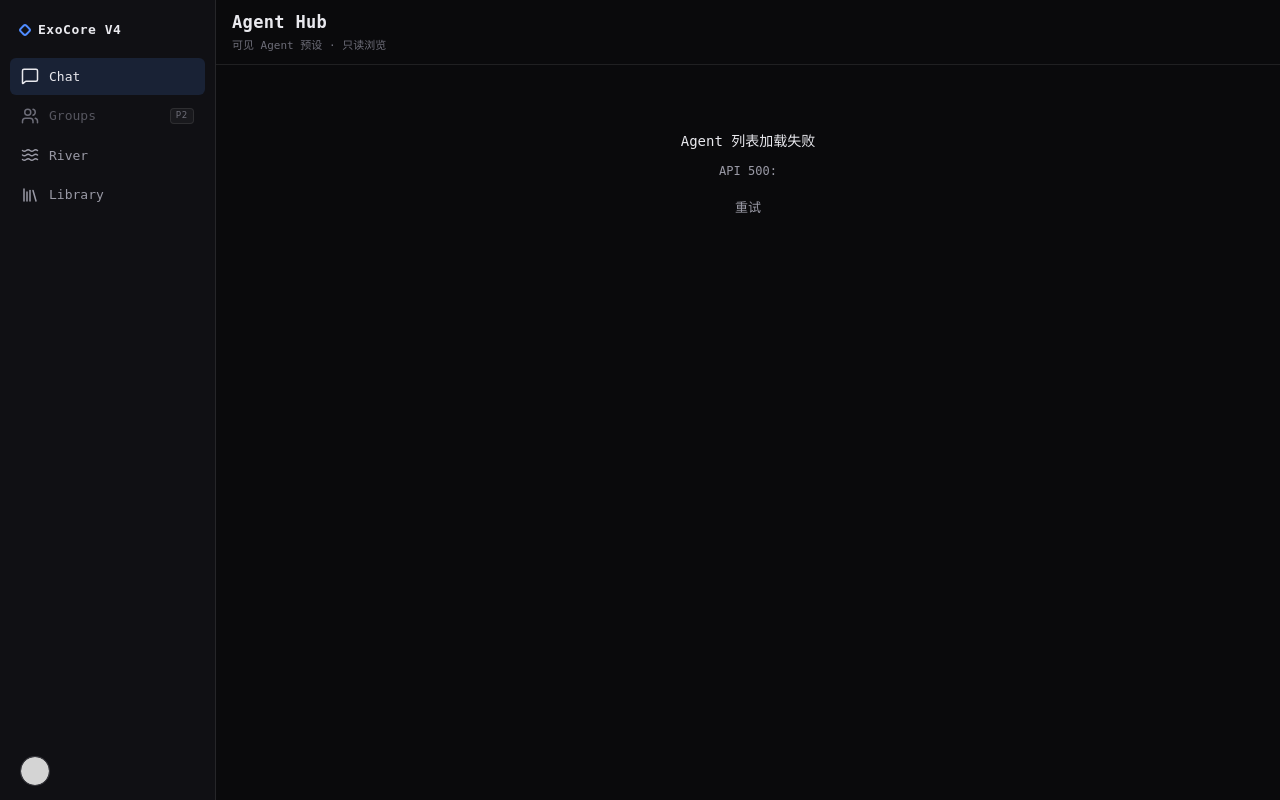
Scenario: Agent Hub (P2A Stage A) › shows an explicit error state with a working retry
Expected: the text "Agent 列表加载失败" is shown, [681, 131, 815, 152]
Expected: the text "Ecki" is not shown
Click the button "重试".
click(748, 208)  # box [720, 190, 776, 226]
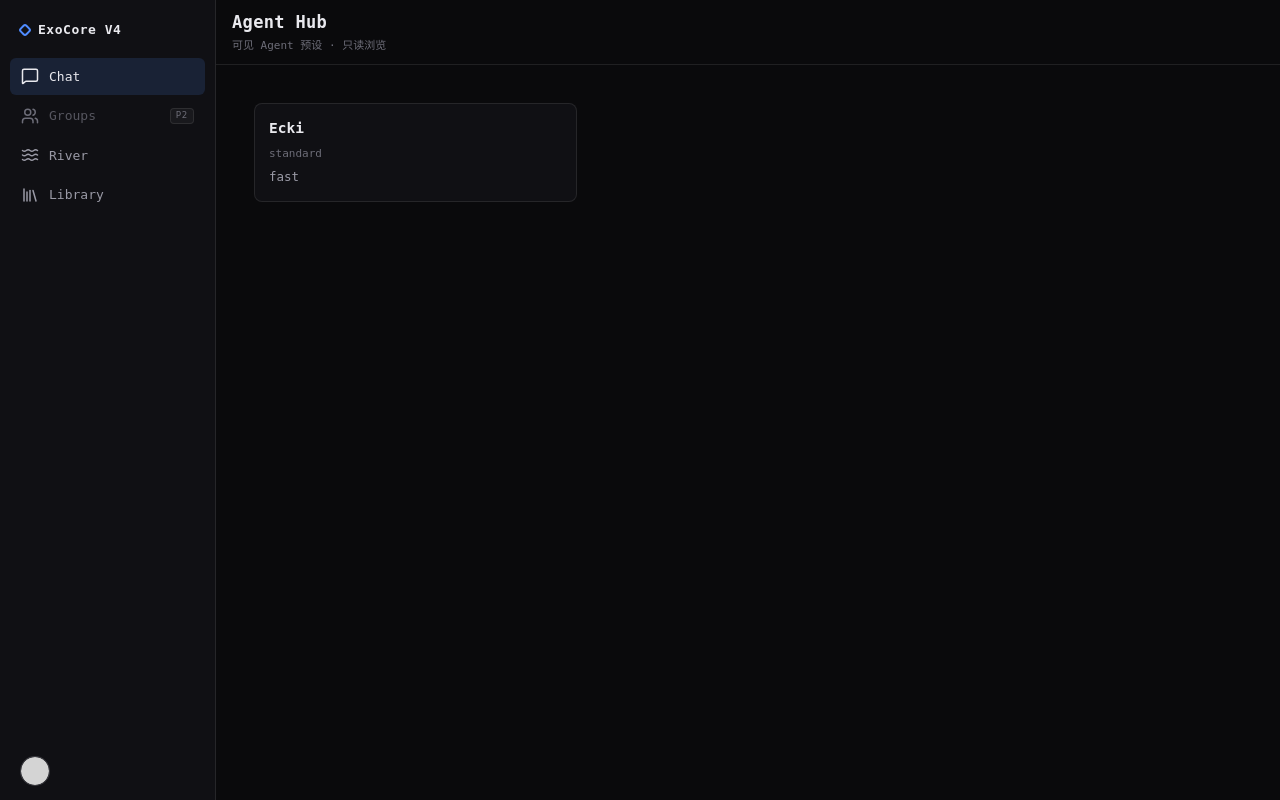
Now the text "Ecki" is shown, box [269, 120, 304, 136]
